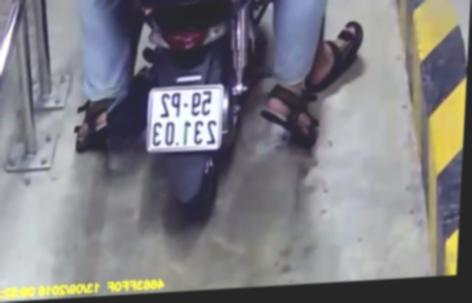License_Plate: (139, 80, 234, 161)
